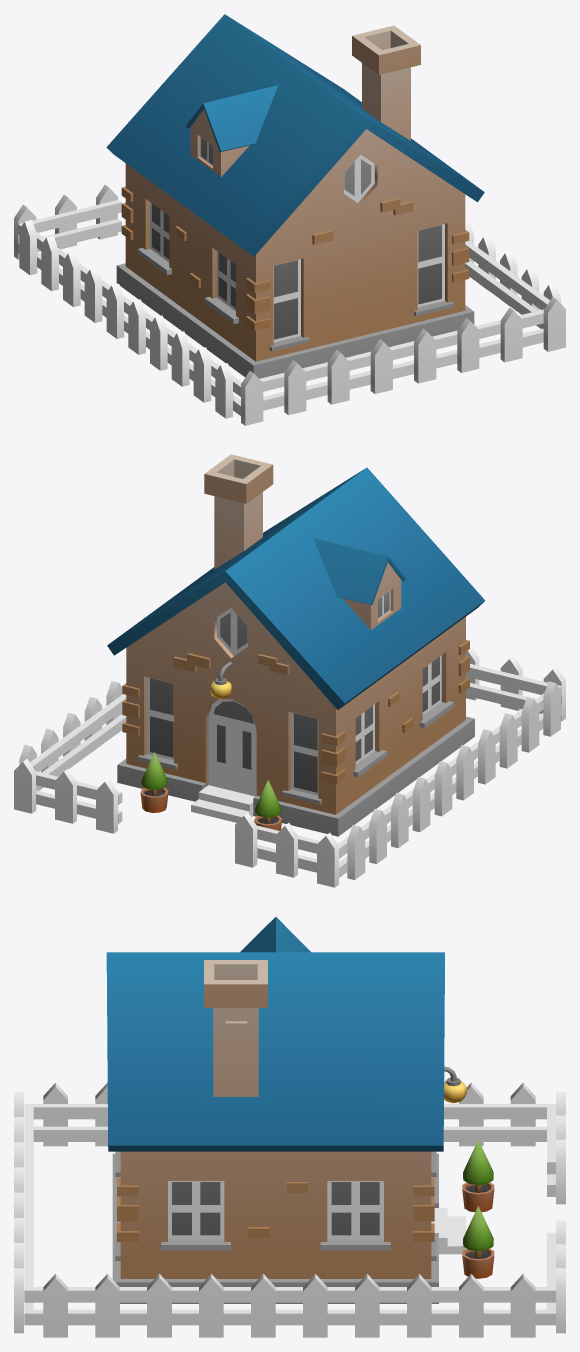
File: building-model-07.glb
The picture shows the model from 3 angles, top to bottom: view 1: azimuth 30°, elevation 25°; view 2: azimuth 150°, elevation 25°; view 3: azimuth 270°, elevation 25°; orthographic projection. The views are drawn at different scales.
Parts seen in each view (by area): view 1: building-model-07, house_big_1_fence; view 2: building-model-07, house_big_1_fence, house_big_1_potted_tree_1, house_big_1_potted_tree_2; view 3: building-model-07, house_big_1_fence, house_big_1_potted_tree_1, house_big_1_potted_tree_2.
Part boxes in pixels (<box>): building-model-07: <box>106,14,484,378</box>; house_big_1_fence: <box>14,184,565,425</box>; building-model-07: <box>107,454,485,836</box>; house_big_1_fence: <box>14,645,565,887</box>; house_big_1_potted_tree_1: <box>140,752,168,812</box>; house_big_1_potted_tree_2: <box>254,779,282,830</box>; building-model-07: <box>106,917,466,1303</box>; house_big_1_fence: <box>14,1082,565,1337</box>; house_big_1_potted_tree_1: <box>462,1206,494,1278</box>; house_big_1_potted_tree_2: <box>462,1140,494,1212</box>.
Bounding box in the file's own units: 8.23 × 6.1 × 9.82.
1 material, 1 textured.
